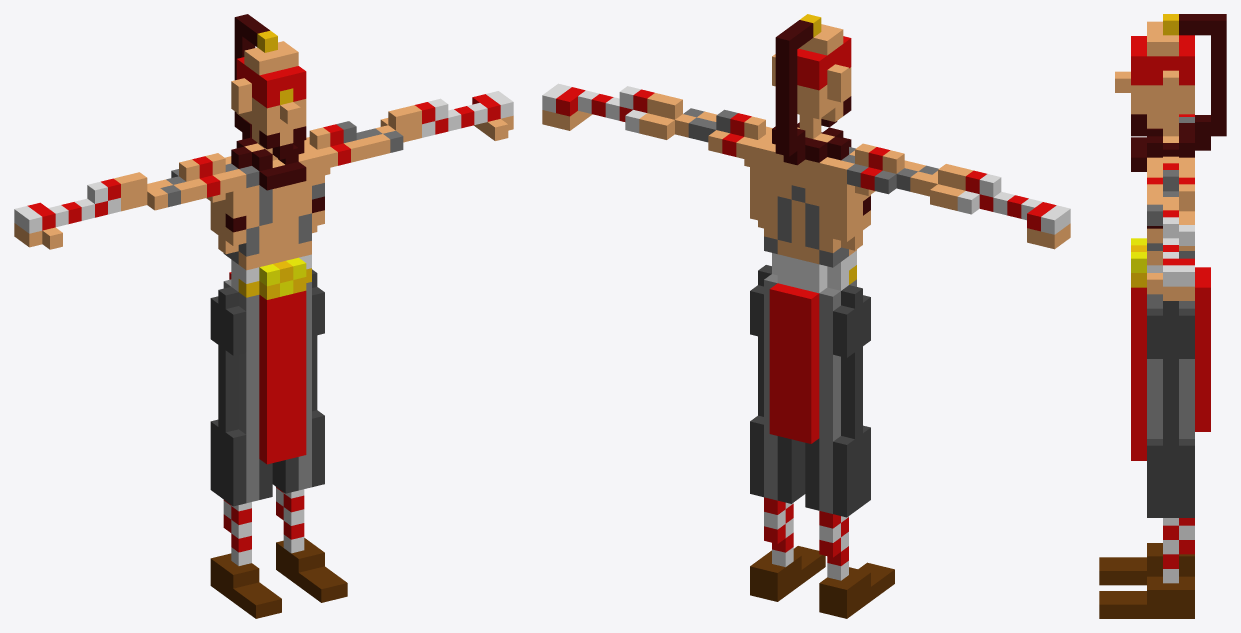
File: mago.obj
3 views of the same model, side by side, from view 1: azimuth 30°, elevation 25°; view 2: azimuth 150°, elevation 25°; view 3: azimuth 270°, elevation 25° (orthographic). The views are drawn at different scales.
Bounding box in the file's own units: 3.7 × 4 × 0.8.
1 material, 1 textured.
